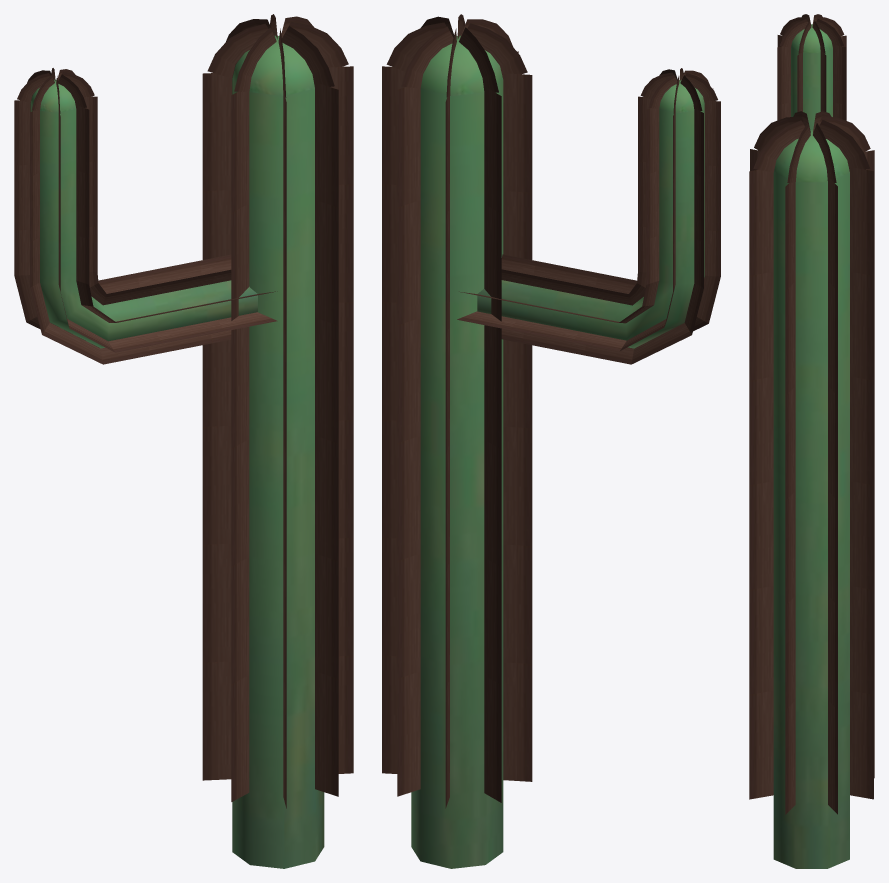
Rendered from Canyon_Cactus_Tall_4.glb.
3 renders of one model, left to right at view 1: azimuth 30°, elevation 25°; view 2: azimuth 150°, elevation 25°; view 3: azimuth 270°, elevation 25°, orthographic. The views are drawn at different scales.
Parts seen in each view (by area): view 1: Canyon_Cactus_Tall_4_0; view 2: Canyon_Cactus_Tall_4_0; view 3: Canyon_Cactus_Tall_4_0.
Part boxes in pixels (x1,y1,x2,y2): Canyon_Cactus_Tall_4_0: [14, 14, 353, 868]; Canyon_Cactus_Tall_4_0: [382, 14, 720, 868]; Canyon_Cactus_Tall_4_0: [749, 14, 874, 868].
Size of the model in its own units: 0.8731 by 2.19 by 0.3367.
Materials: 1 (1 with a texture image).
